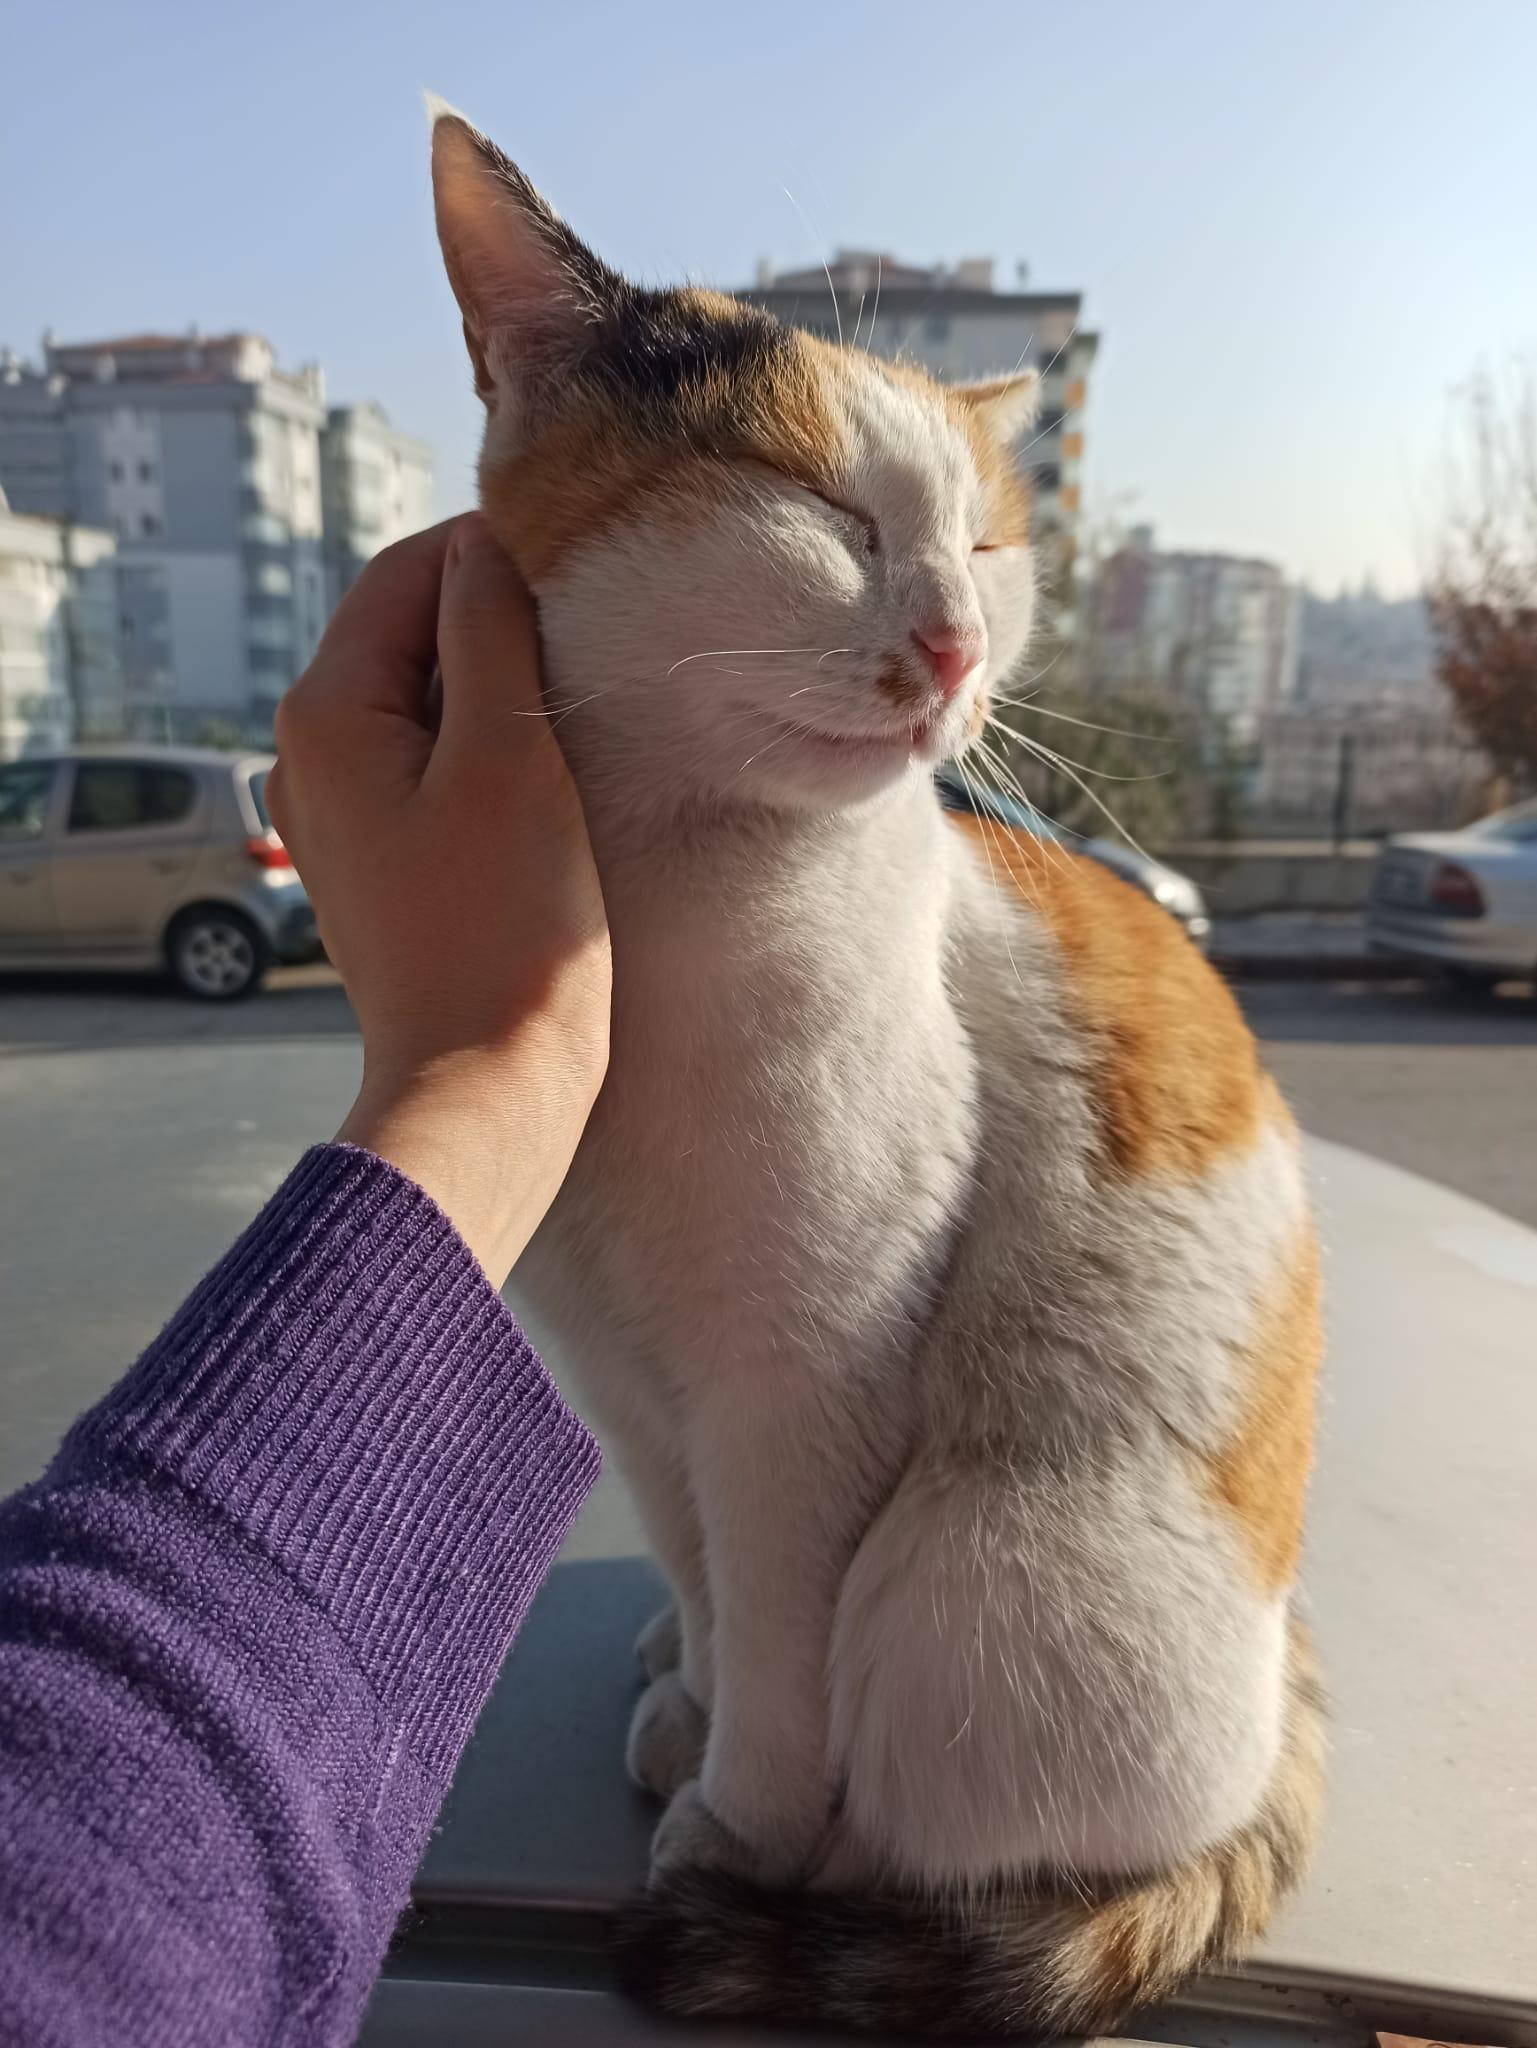kedo: (429, 121, 1309, 2037)
